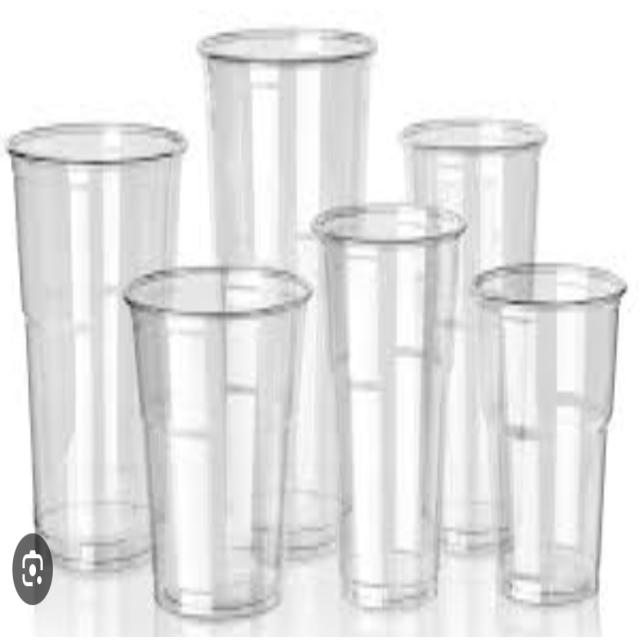recyclable: (114, 239, 328, 623), (302, 166, 467, 624), (461, 213, 637, 631)
